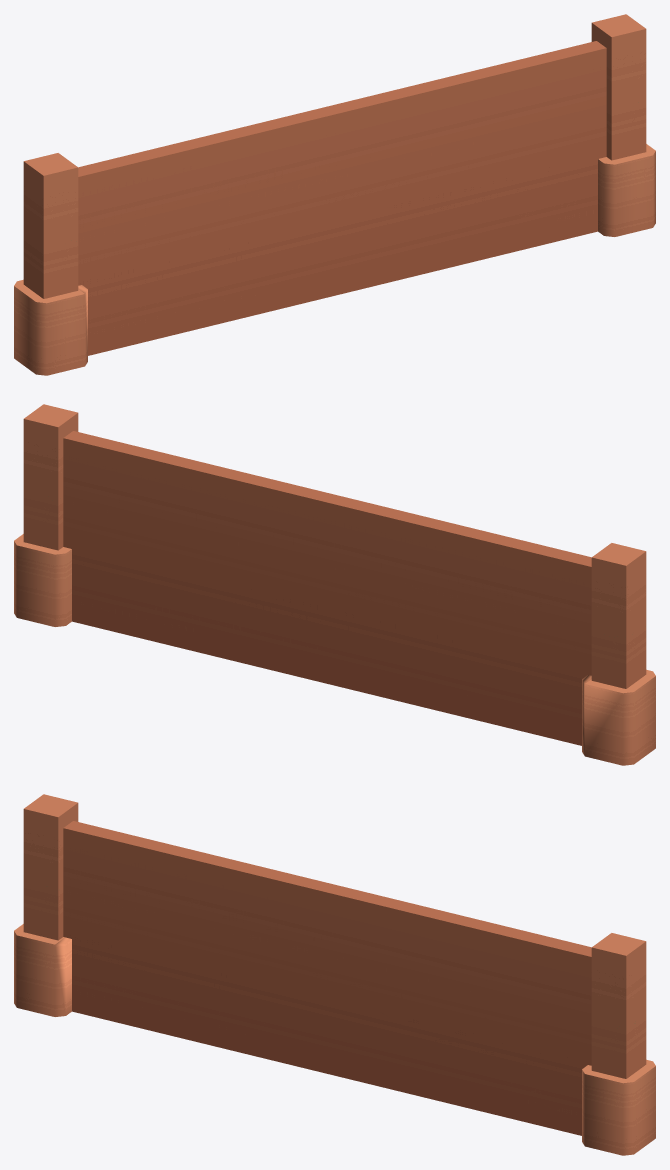
Rendered from Fence01.glb.
3 views of the same model, one above another, from view 1: azimuth 30°, elevation 25°; view 2: azimuth 150°, elevation 25°; view 3: azimuth 330°, elevation 25° (orthographic).
Parts seen in each view (by area): view 1: fence; view 2: fence; view 3: fence.
Boxes of the visible parts, x1,y1,x2,y2 form: fence: (14, 14, 655, 375); fence: (14, 404, 655, 765); fence: (14, 794, 655, 1155).
Bounding box in the file's own units: 0.8946 × 0.27 × 0.075.
Materials: 1 (1 with a texture image).
